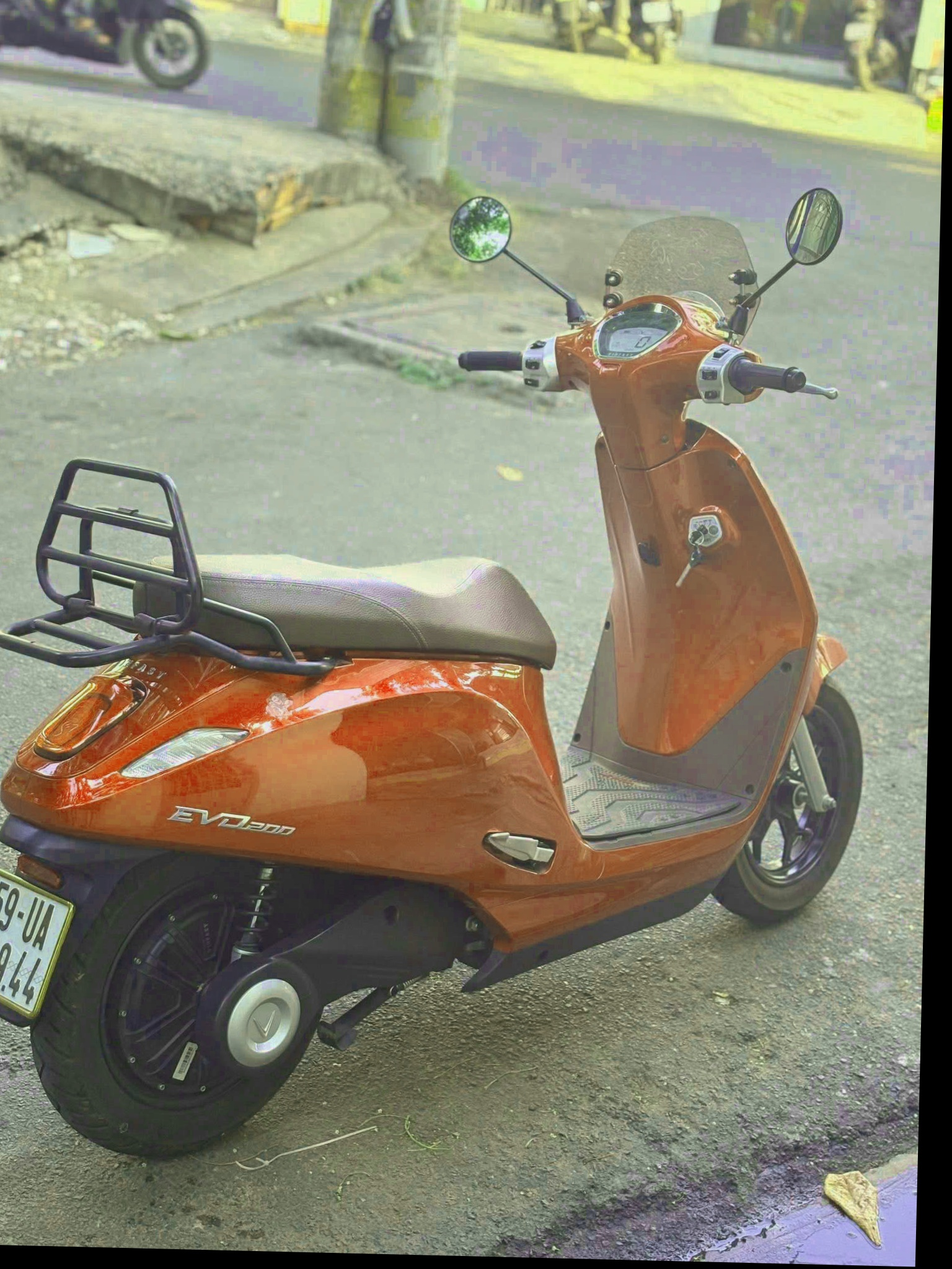Bien-so: (0, 878, 95, 1030)
